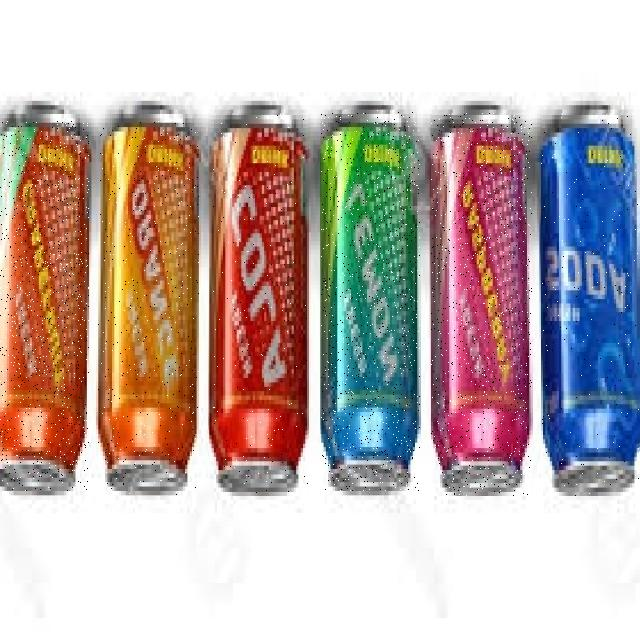metal: (432, 113, 532, 495), (98, 121, 199, 495), (210, 113, 308, 495), (322, 110, 420, 491), (542, 113, 639, 495), (0, 121, 89, 491)
